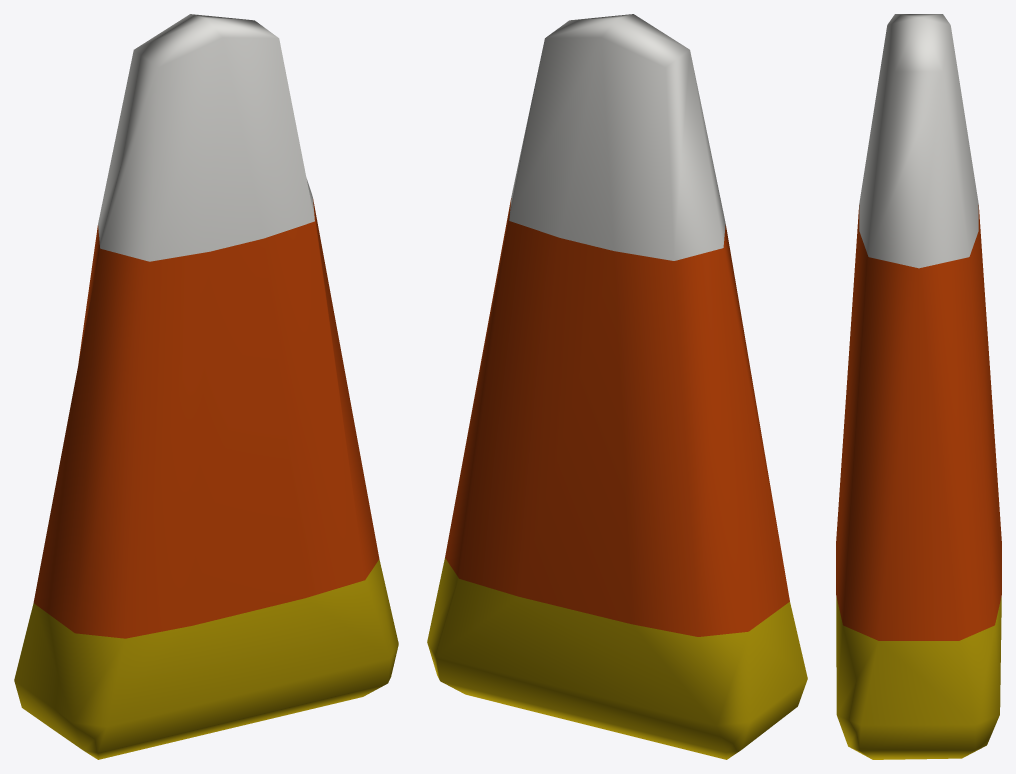
Rendered from SM_Candycorn_Tree.fbx.
3 renders of one model, left to right at view 1: azimuth 30°, elevation 25°; view 2: azimuth 150°, elevation 25°; view 3: azimuth 270°, elevation 25°, orthographic. The views are drawn at different scales.
Visible parts, largest first — view 1: SM_Candycorn_TreeFlat; view 2: SM_Candycorn_TreeFlat; view 3: SM_Candycorn_TreeFlat.
Boxes of the visible parts, x1=… form: SM_Candycorn_TreeFlat: x1=14, y1=14, x2=398, y2=759; SM_Candycorn_TreeFlat: x1=427, y1=14, x2=807, y2=759; SM_Candycorn_TreeFlat: x1=836, y1=14, x2=1001, y2=759.
Size of the model in its own units: 87.12 by 177 by 39.23.
